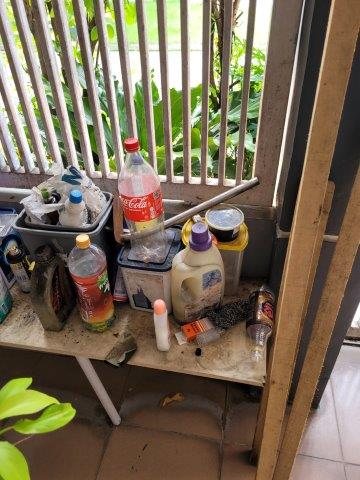botolplastik: (120, 140, 169, 263), (69, 240, 113, 332), (247, 286, 276, 364)
